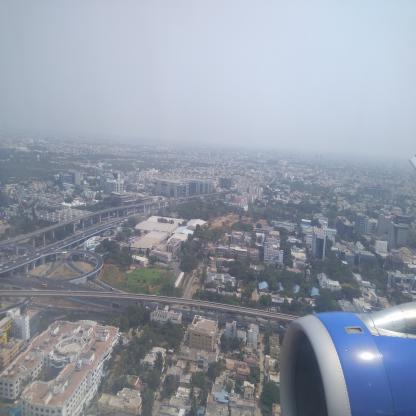CIV_Plane: (265, 293, 415, 412)
